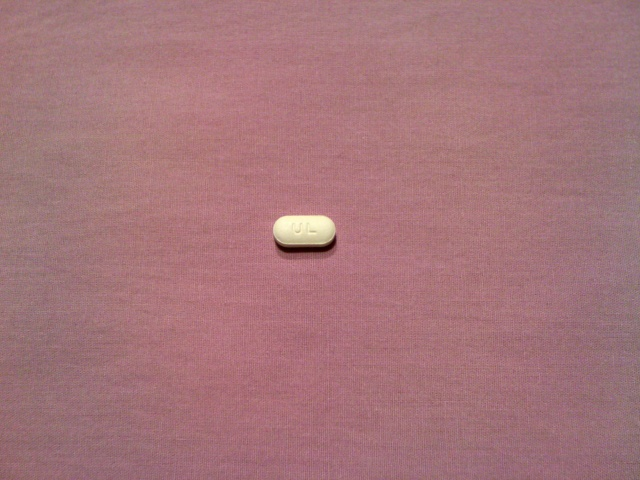L: (305, 221, 320, 238)
U: (290, 220, 304, 236)
